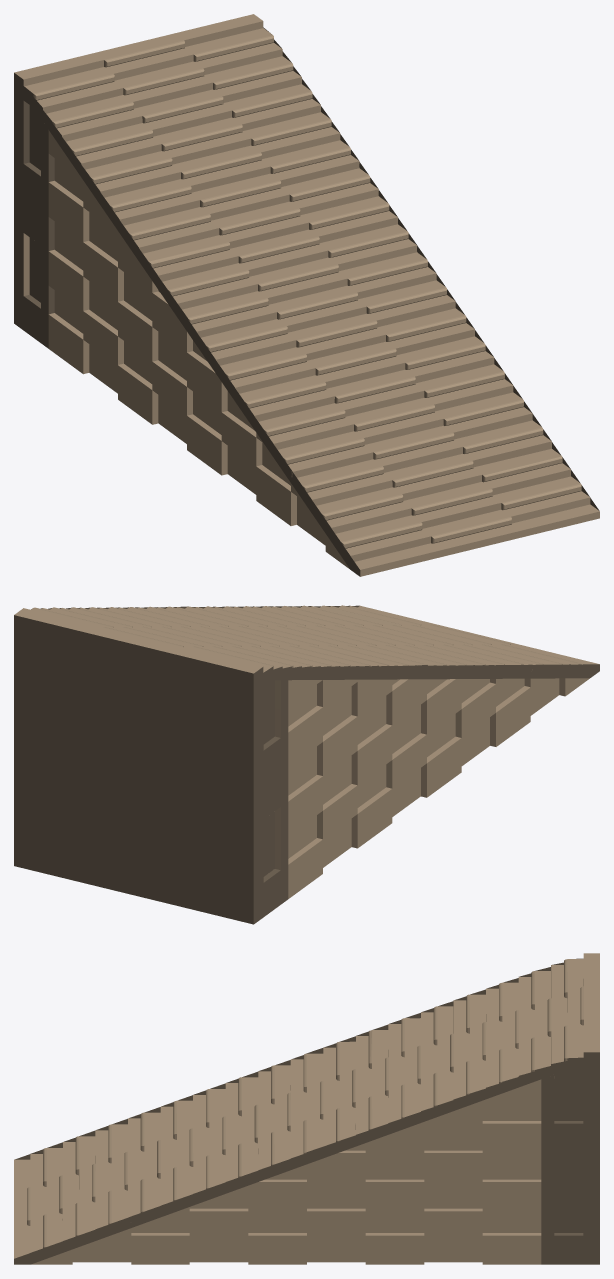
Rendered from stairs_5.4._2.fbx.
3 renders of one model, top to bottom at view 1: azimuth 30°, elevation 25°; view 2: azimuth 150°, elevation 25°; view 3: azimuth 270°, elevation 25°, orthographic. The views are drawn at different scales.
Parts seen in each view (by area): view 1: stairs; view 2: stairs; view 3: stairs.
Boxes of the visible parts, bbox=[...] form: stairs: bbox=[14, 14, 599, 576]; stairs: bbox=[14, 605, 599, 924]; stairs: bbox=[14, 953, 599, 1264].
Size of the model in its own units: 400 by 400 by 1000.
